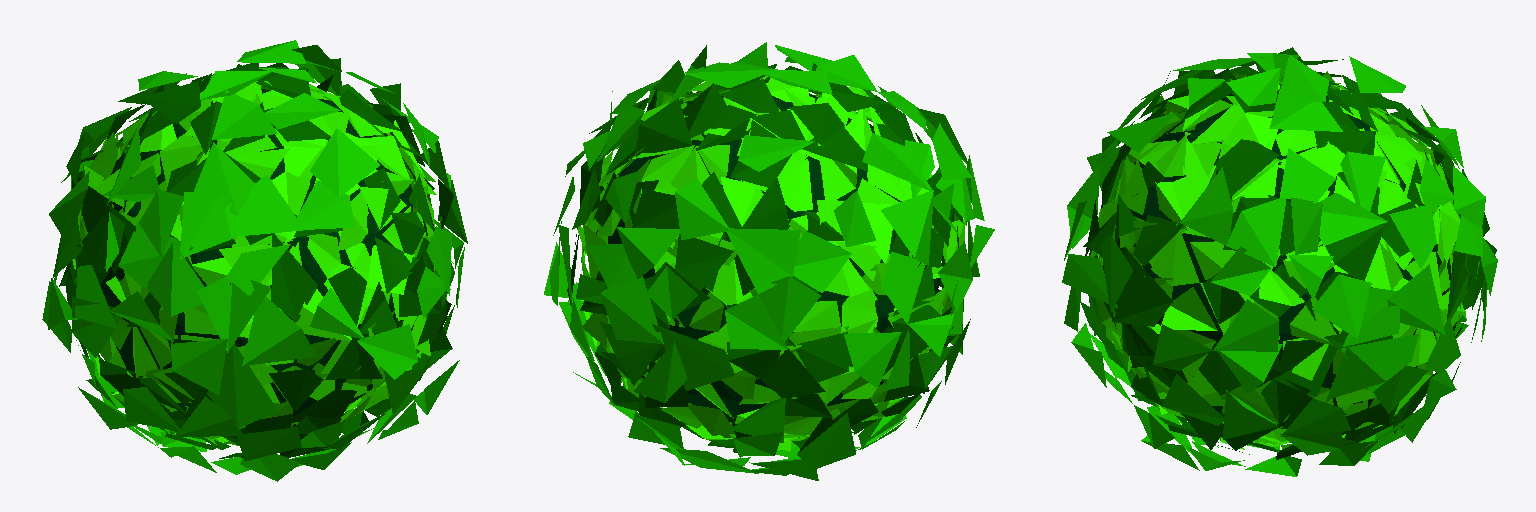
Rendered from Bush.obj.
3 views of the same model, side by side, from view 1: azimuth 30°, elevation 25°; view 2: azimuth 150°, elevation 25°; view 3: azimuth 270°, elevation 25° (orthographic).
Parts seen in each view (by area): view 1: Bottom_layer.003_Icosphere; view 2: Bottom_layer.003_Icosphere; view 3: Bottom_layer.003_Icosphere.
Part boxes in pixels (bbox=[...]): Bottom_layer.003_Icosphere: bbox=[42, 40, 467, 481]; Bottom_layer.003_Icosphere: bbox=[544, 42, 994, 480]; Bottom_layer.003_Icosphere: bbox=[1062, 47, 1497, 476].
Bounding box in the file's own units: 3.29 × 3.26 × 3.27.